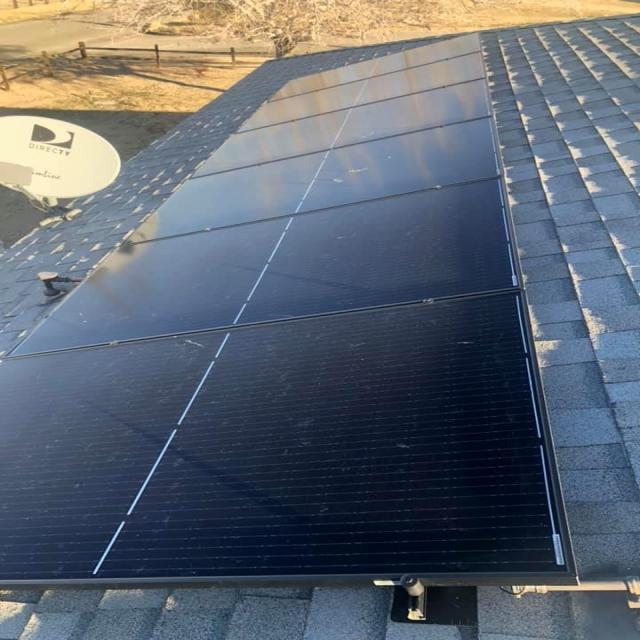dust-solar-panel: (0, 284, 573, 583)
